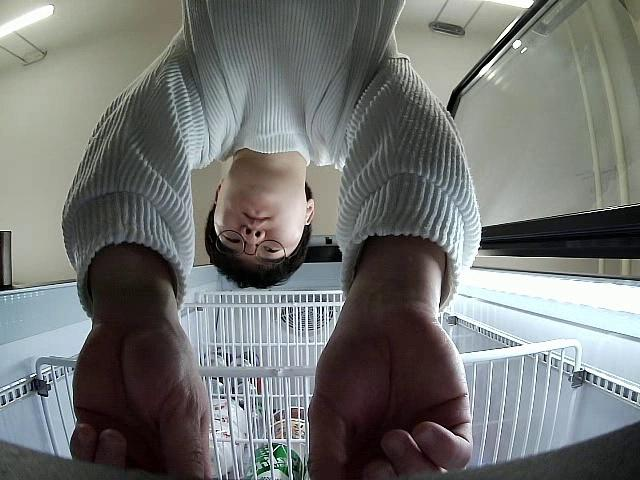00_hand: (306, 309, 475, 480), (69, 320, 214, 480)
